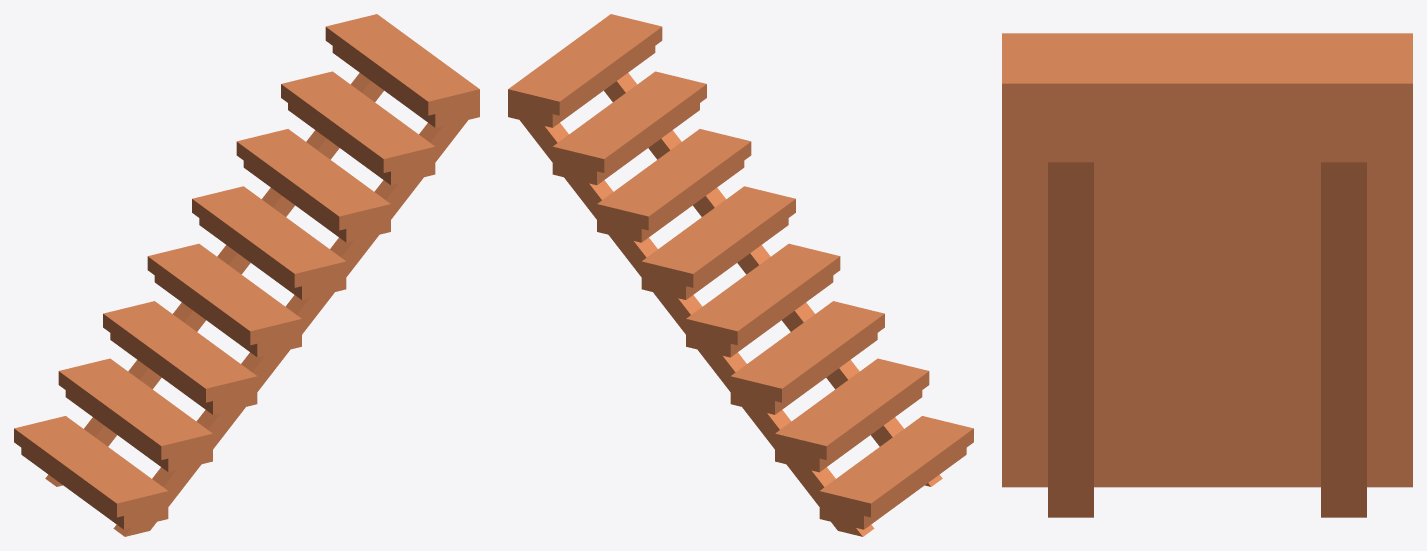
The model's file is stairsWood.fbx.
The picture shows the model from 3 angles, left to right: view 1: azimuth 30°, elevation 25°; view 2: azimuth 150°, elevation 25°; view 3: azimuth 270°, elevation 25°; orthographic projection. The views are drawn at different scales.
Visible parts, largest first — view 1: stairsWood; view 2: stairsWood; view 3: stairsWood.
Boxes of the visible parts, x1,y1,x2,y2 form: stairsWood: (14, 14, 479, 536); stairsWood: (508, 14, 973, 536); stairsWood: (1002, 33, 1412, 517).
Bounding box in the file's own units: 10.2 × 10 × 5.
